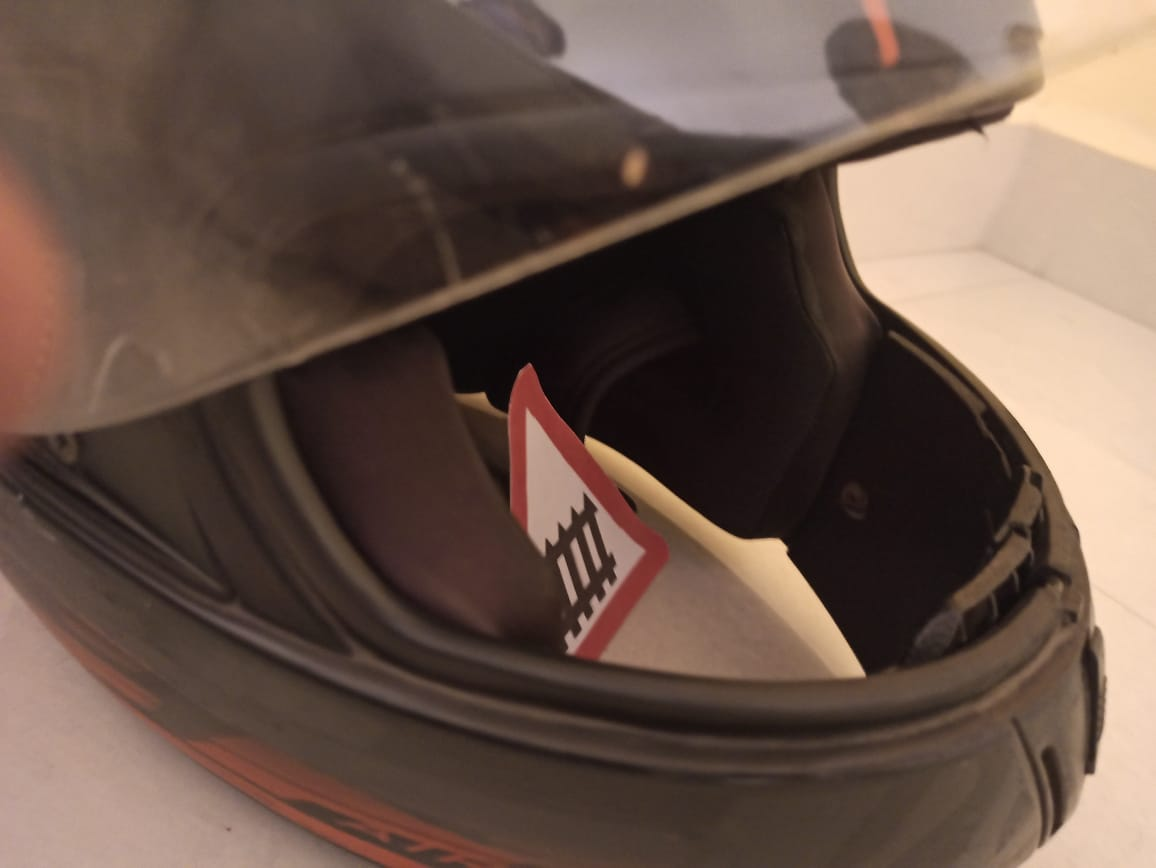GUARDED LEVEL CROSSING: (477, 354, 666, 676)
